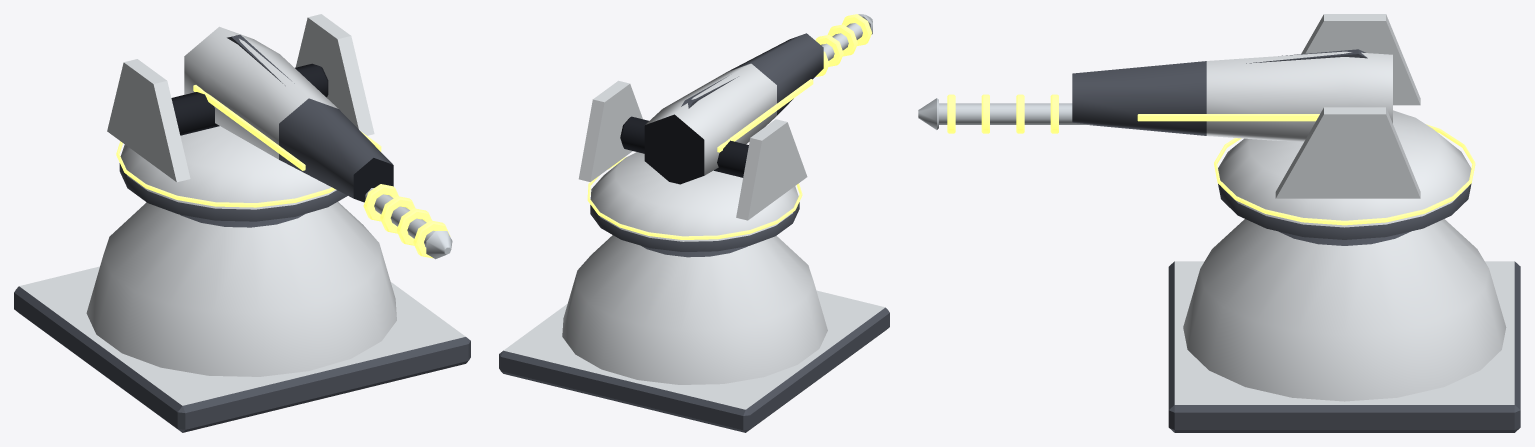
Rendered from R4W_Basic_LOD1.fbx.
3 views of the same model, side by side, from view 1: azimuth 30°, elevation 25°; view 2: azimuth 150°, elevation 25°; view 3: azimuth 270°, elevation 25° (orthographic). The views are drawn at different scales.
Visible parts, largest first — view 1: R4W_Basic_LOD1; view 2: R4W_Basic_LOD1; view 3: R4W_Basic_LOD1.
Boxes of the visible parts, <box> form: R4W_Basic_LOD1: <box>14,14,470,432</box>; R4W_Basic_LOD1: <box>499,14,889,432</box>; R4W_Basic_LOD1: <box>918,14,1520,432</box>.
Bounding box in the file's own units: 0.51 × 0.495 × 0.873.
